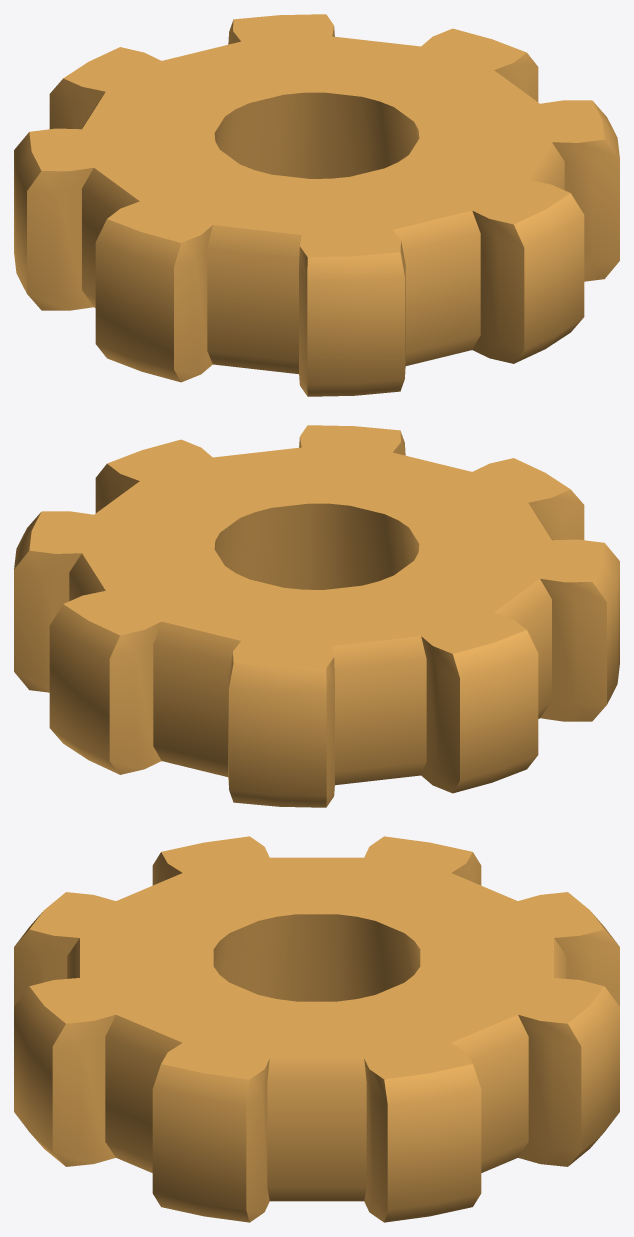
The model's file is Gear_8P_02.fbx.
3 views of the same model, one above another, from view 1: azimuth 30°, elevation 25°; view 2: azimuth 150°, elevation 25°; view 3: azimuth 270°, elevation 25° (orthographic). The views are drawn at different scales.
Visible parts, largest first — view 1: Gear_8P_02; view 2: Gear_8P_02; view 3: Gear_8P_02.
Boxes of the visible parts, box(x1,y1,x2,y2) form: Gear_8P_02: box(14, 14, 619, 396); Gear_8P_02: box(14, 425, 619, 807); Gear_8P_02: box(14, 836, 619, 1222).
Bounding box in the file's own units: 384 × 100 × 384.
